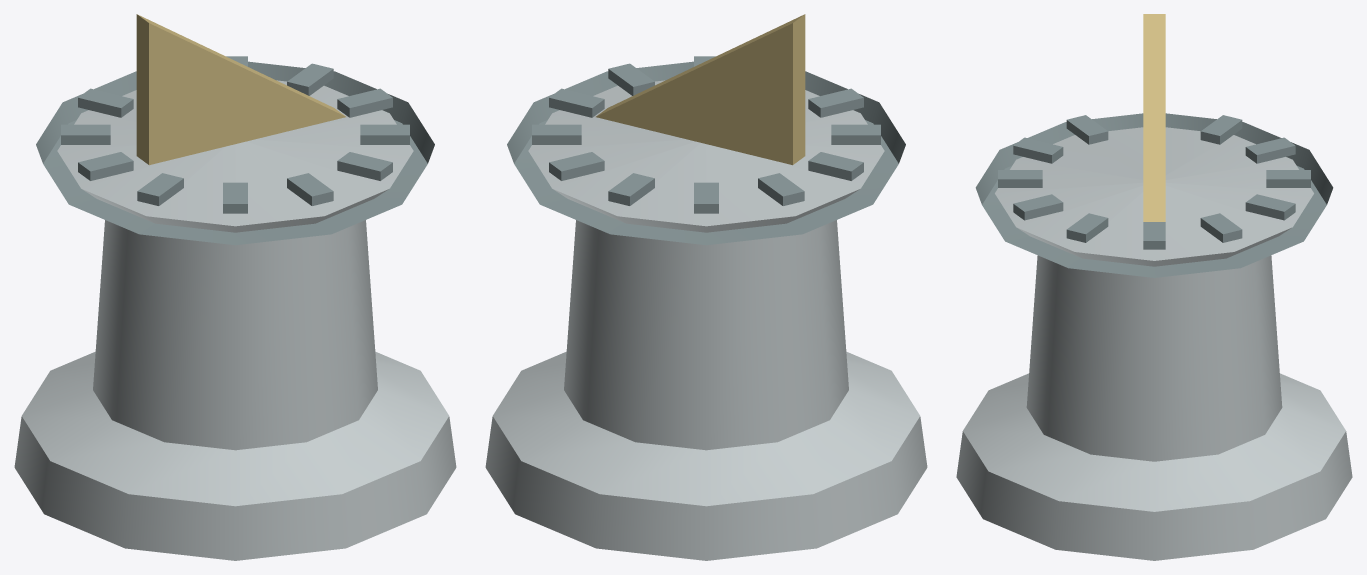
Rendered from sunken-city-and-underwater-ruins-sundial-plinth-4652e28b__36967.glb.
3 renders of one model, left to right at view 1: azimuth 30°, elevation 25°; view 2: azimuth 150°, elevation 25°; view 3: azimuth 270°, elevation 25°, orthographic. The views are drawn at different scales.
Visible parts, largest first — view 1: sundial-plinth; view 2: sundial-plinth; view 3: sundial-plinth.
Boxes of the visible parts, bbox=[...] form: sundial-plinth: bbox=[14, 14, 456, 560]; sundial-plinth: bbox=[485, 14, 927, 560]; sundial-plinth: bbox=[956, 14, 1352, 560].
Bounding box in the file's own units: 1.24 × 1.46 × 1.24.
